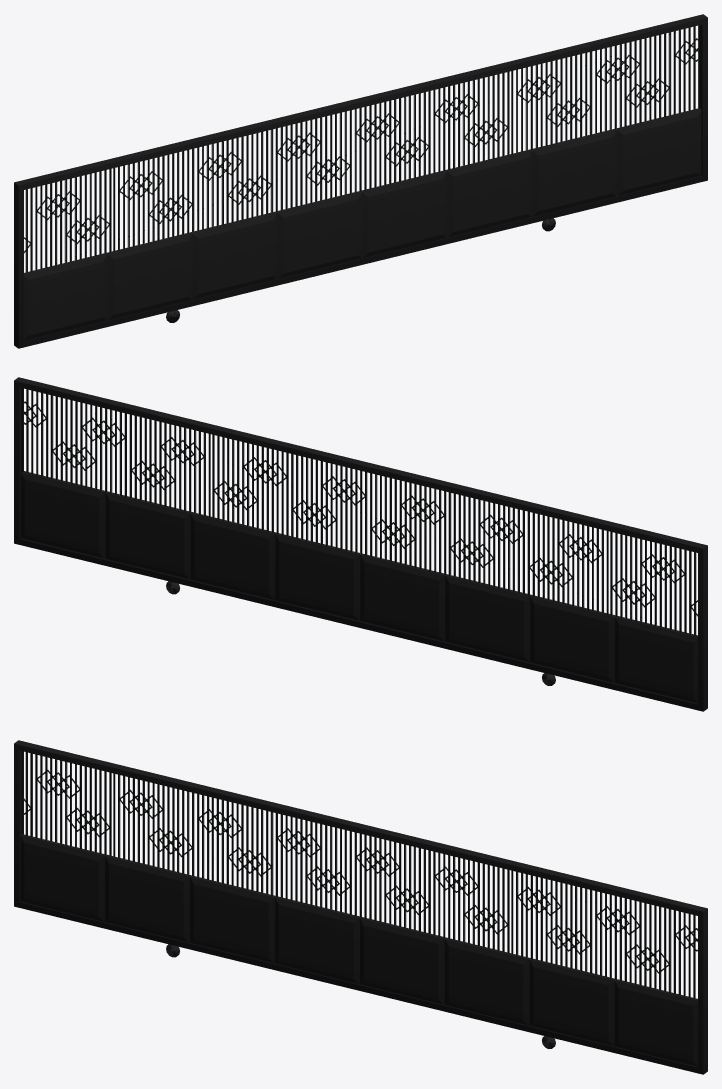
File: GerbangSekolah1.fbx
3 renders of one model, top to bottom at view 1: azimuth 30°, elevation 25°; view 2: azimuth 150°, elevation 25°; view 3: azimuth 330°, elevation 25°, orthographic.
Parts seen in each view (by area): view 1: GerabangSekolah_LOD0; view 2: GerabangSekolah_LOD0; view 3: GerabangSekolah_LOD0.
Boxes of the visible parts, x1,y1,x2,y2 form: GerabangSekolah_LOD0: (14, 14, 707, 348); GerabangSekolah_LOD0: (14, 377, 707, 711); GerabangSekolah_LOD0: (14, 740, 707, 1074).
Size of what is drawn, in the model's own units: 1727 by 424 by 21.8.
